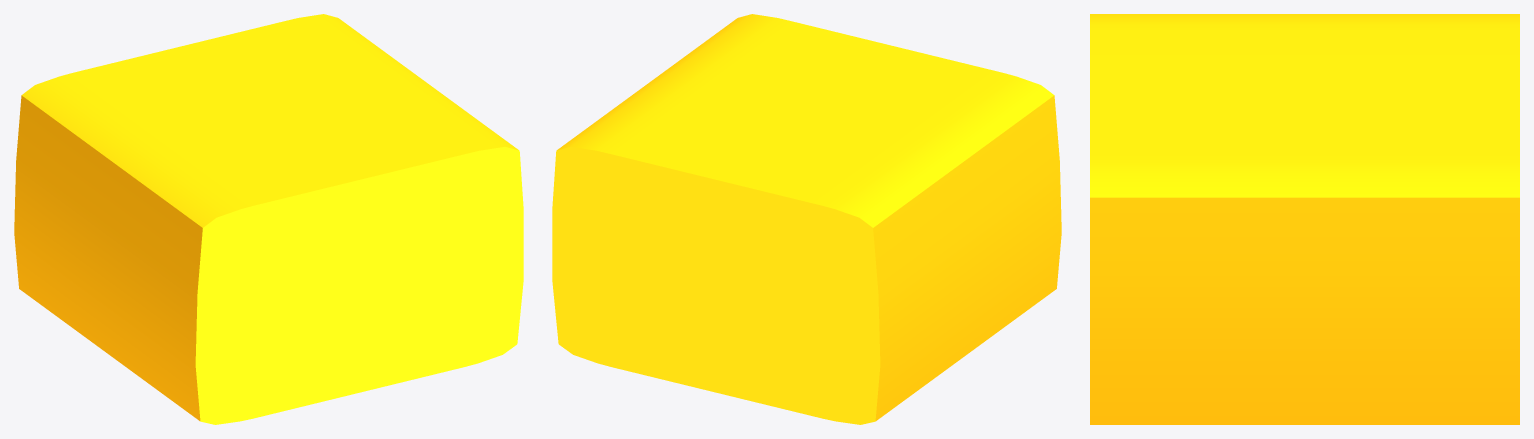
Rendered from symbol-_Zyzol_Yellow.glb.
3 views of the same model, side by side, from view 1: azimuth 30°, elevation 25°; view 2: azimuth 150°, elevation 25°; view 3: azimuth 270°, elevation 25° (orthographic). The views are drawn at different scales.
Visible parts, largest first — view 1: -_Zyzol_Yellow; view 2: -_Zyzol_Yellow; view 3: -_Zyzol_Yellow.
Boxes of the visible parts, x1,y1,x2,y2 form: -_Zyzol_Yellow: [14, 14, 523, 424]; -_Zyzol_Yellow: [552, 14, 1061, 424]; -_Zyzol_Yellow: [1090, 14, 1519, 424].
Size of what is drawn, in the model's own units: 0.047 by 0.0291 by 0.045.
Materials: 2 (2 with a texture image).
